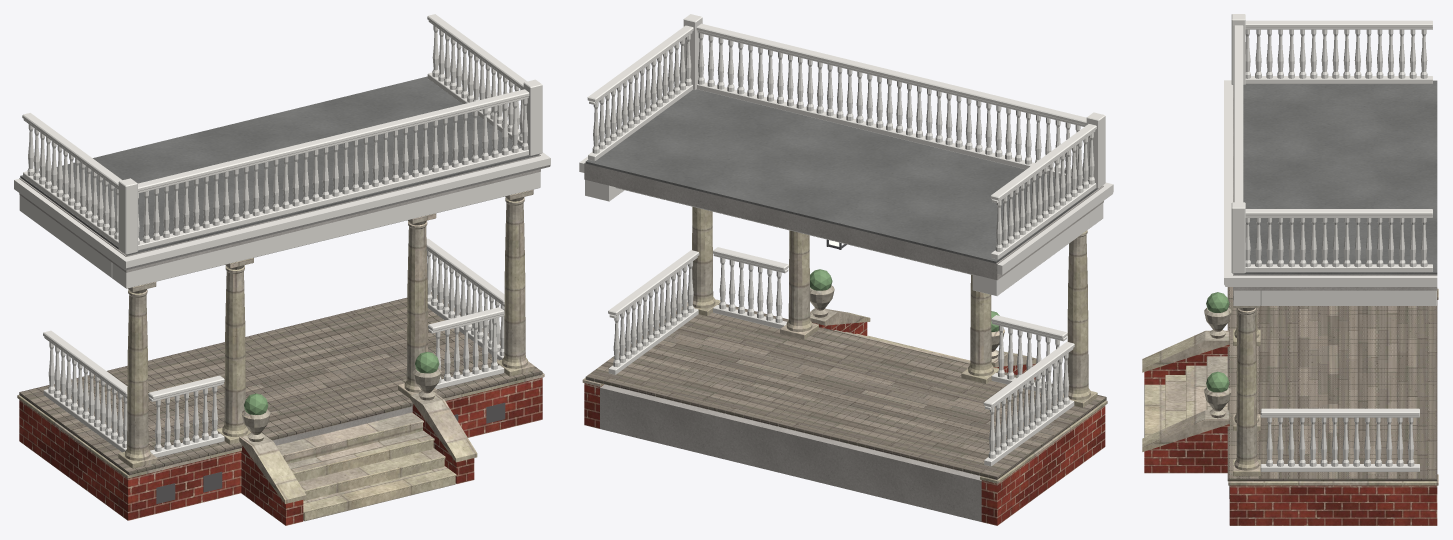
The model's file is porch.glb.
3 views of the same model, side by side, from view 1: azimuth 30°, elevation 25°; view 2: azimuth 150°, elevation 25°; view 3: azimuth 270°, elevation 25° (orthographic). The views are drawn at different scales.
Parts seen in each view (by area): view 1: porch_trim, porch_stone_t, porch_deck, porch_membrane, porch_brick, porch_concrete, porch_dark, porch_hedge; view 2: porch_trim, porch_deck, porch_membrane, porch_concrete, porch_stone_t, porch_brick; view 3: porch_trim, porch_membrane, porch_deck, porch_brick, porch_stone_t, porch_concrete, porch_hedge.
Boxes of the visible parts, <box> form: porch_trim: <box>14,14,550,457</box>; porch_stone_t: <box>17,189,544,521</box>; porch_deck: <box>19,291,542,475</box>; porch_membrane: <box>20,76,539,255</box>; porch_brick: <box>19,377,542,525</box>; porch_concrete: <box>19,154,540,445</box>; porch_dark: <box>156,402,505,504</box>; porch_hedge: <box>244,351,439,414</box>; porch_trim: <box>579,14,1113,466</box>; porch_deck: <box>585,304,1106,479</box>; porch_membrane: <box>585,89,1098,263</box>; porch_concrete: <box>584,162,1103,521</box>; porch_stone_t: <box>582,207,1107,483</box>; porch_brick: <box>584,322,1105,525</box>; porch_trim: <box>1224,14,1437,471</box>; porch_membrane: <box>1233,80,1437,274</box>; porch_deck: <box>1227,287,1437,481</box>; porch_brick: <box>1144,344,1437,525</box>; porch_stone_t: <box>1142,288,1438,485</box>; porch_concrete: <box>1233,85,1437,290</box>; porch_hedge: <box>1206,292,1229,392</box>.
Bounding box in the file's own units: 6.76 × 5.08 × 4.28.
Materials: 10 (5 with a texture image).
